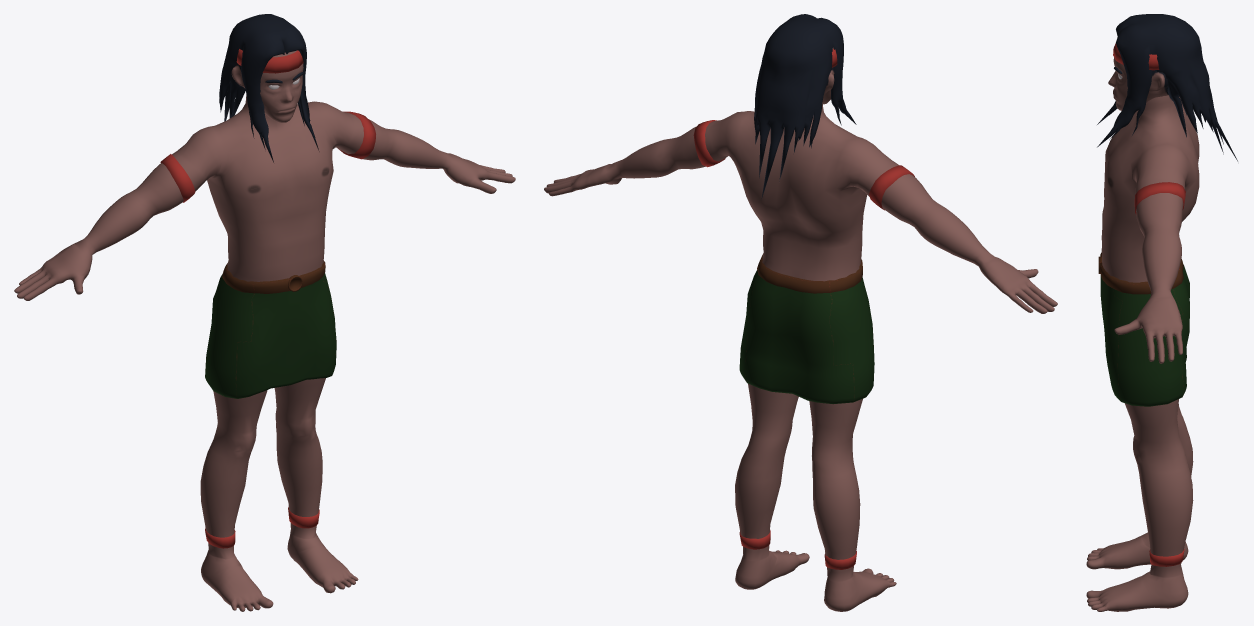
File: HumanoInimigo_Karawara.fbx
3 views of the same model, side by side, from view 1: azimuth 30°, elevation 25°; view 2: azimuth 150°, elevation 25°; view 3: azimuth 270°, elevation 25° (orthographic). The views are drawn at different scales.
Parts seen in each view (by area): view 1: Retopo_Corpo, Roupas, (PLACEHOLDER)CabeloLongo, Retopo_Cabeca; view 2: Retopo_Corpo, Roupas, (PLACEHOLDER)CabeloLongo; view 3: Retopo_Corpo, Roupas, (PLACEHOLDER)CabeloLongo, Retopo_Cabeca.
Boxes of the visible parts, x1,y1,x2,y2 form: Retopo_Corpo: (14,95,515,611); Roupas: (160,49,375,548); (PLACEHOLDER)CabeloLongo: (219,14,319,162); Retopo_Cabeca: (231,50,303,122); Retopo_Corpo: (544,102,1057,611); Roupas: (693,49,914,569); (PLACEHOLDER)CabeloLongo: (754,14,856,198); Retopo_Corpo: (1086,95,1199,611); Roupas: (1098,43,1189,566); (PLACEHOLDER)CabeloLongo: (1097,14,1237,161); Retopo_Cabeca: (1108,57,1168,110).
Bounding box in the file's own units: 162 × 174 × 42.6.
